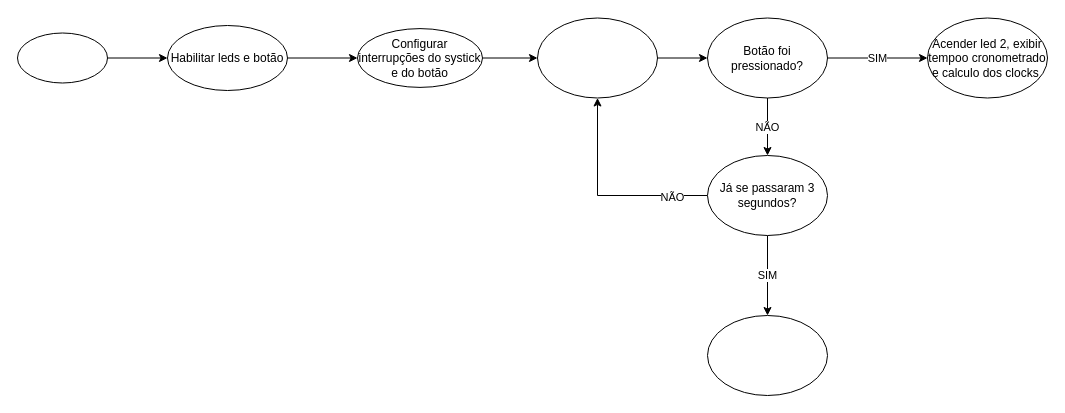
Image size: 1065x413. Some labels were removed from this diagram. Here are the shapes that lost their labels. From the top down, the box of each, then its label:
(16, 32, 108, 83): Inicio
(536, 17, 658, 98): Acender led 1 e aguardar botão pressionado e cronometrar
(706, 314, 828, 396): Exibir mensagem de tempo esgotado e encerrar programa
